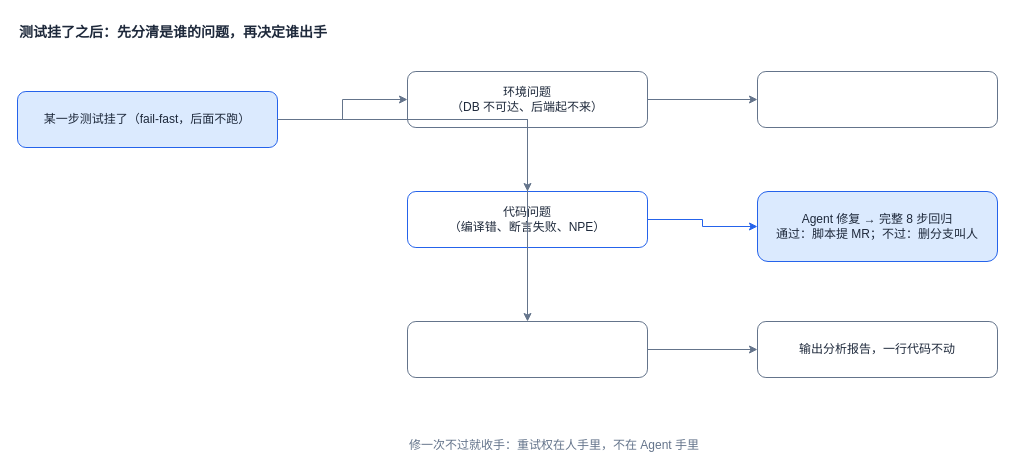
The diagram is 1015 pixels wide and 469 high, and some of its shapes have lost their labels. The centre of each missing label's shape, as x and y in pixels:
"Agent 不出手，直接告警叫人" goes at point (877, 99).
"根因定不下来 （含 E2E flaky、数据问题）" goes at point (527, 349).
